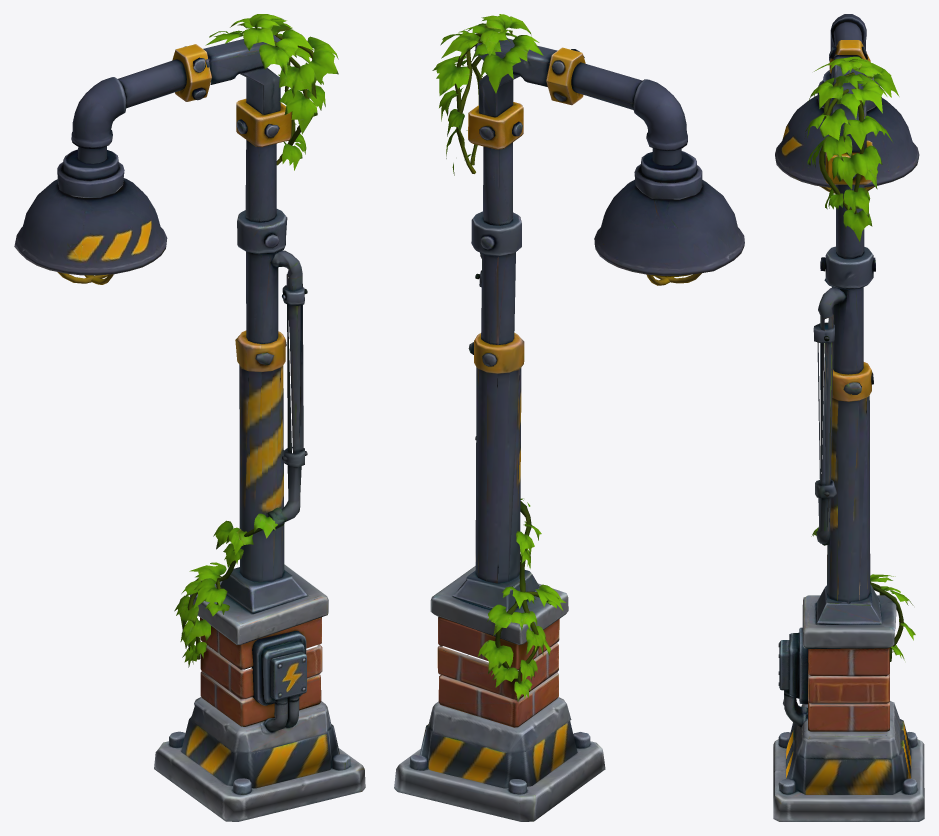
The model's file is street_light_post.glb.
The picture shows the model from 3 angles, left to right: view 1: azimuth 30°, elevation 25°; view 2: azimuth 150°, elevation 25°; view 3: azimuth 270°, elevation 25°; orthographic projection. The views are drawn at different scales.
Visible parts, largest first — view 1: geometry_0; view 2: geometry_0; view 3: geometry_0.
Boxes of the visible parts, box(x1,y1,x2,y2) form: geometry_0: box(14, 14, 365, 821); geometry_0: box(394, 14, 744, 821); geometry_0: box(773, 14, 924, 821).
Size of what is drawn, in the model's own units: 0.4197 by 1 by 0.1882.
Materials: 1 (1 with a texture image).
